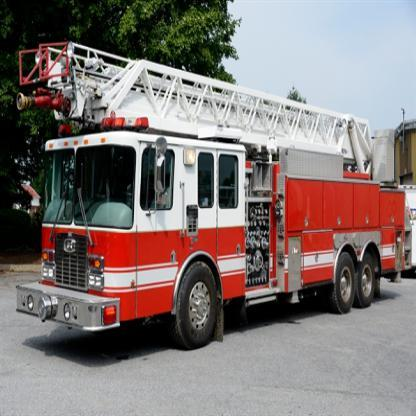fire-truck: (0, 20, 404, 381)
